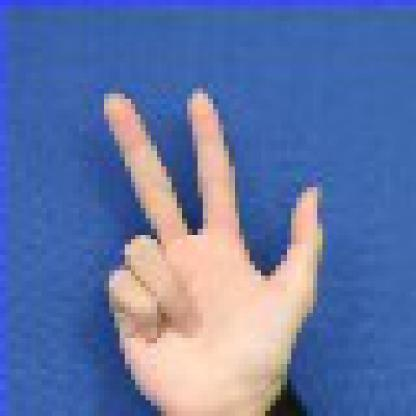eight: (57, 41, 359, 410)
